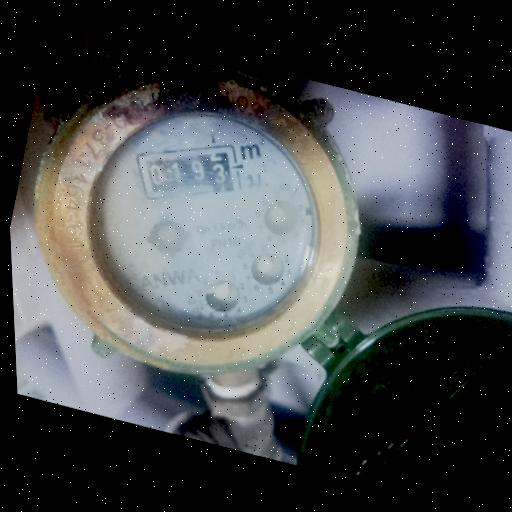0: (140, 154, 178, 198)
1: (156, 150, 196, 194)
3: (197, 146, 244, 199)
9: (176, 148, 218, 192)
border_water_meter_number: (124, 120, 253, 225)
